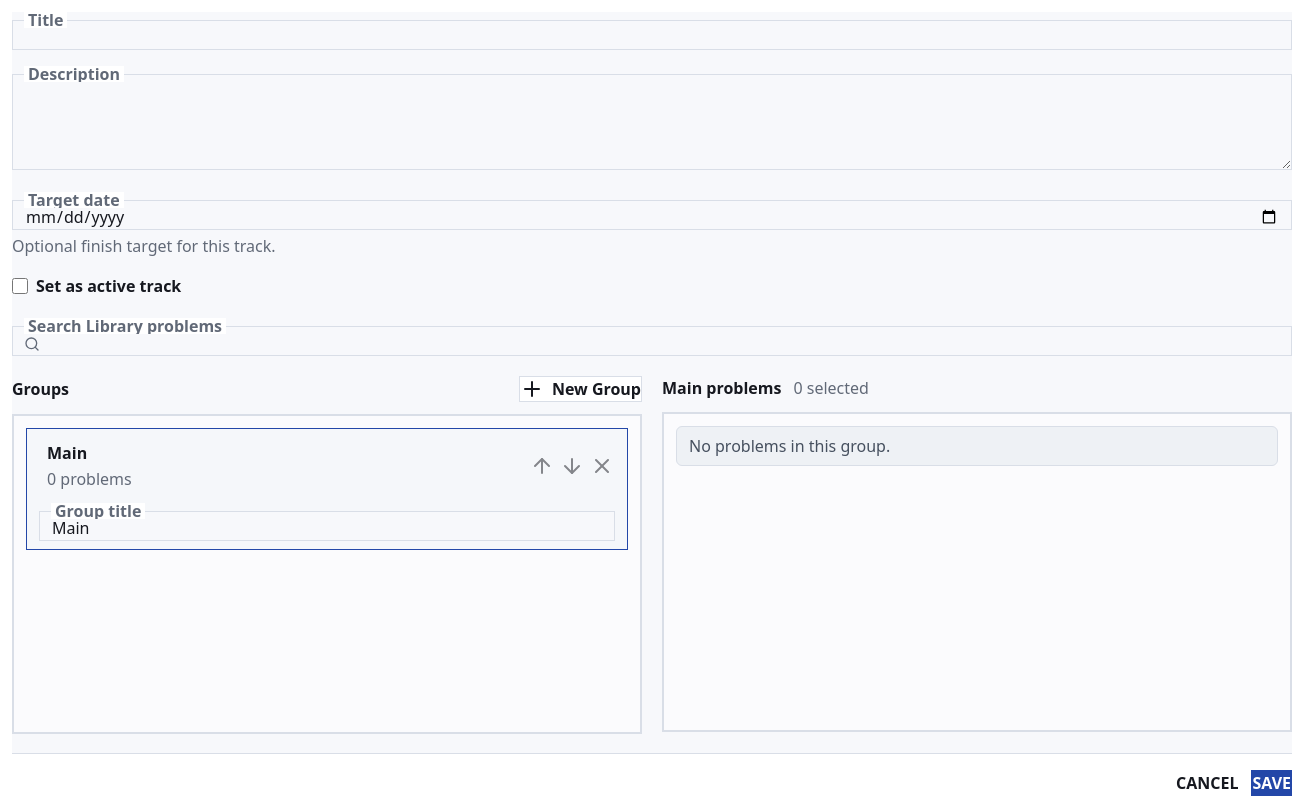
Test case: TrackForm › requires a title and starts create mode with a Main group
Check: the field labelled "Title" is empty, box [12, 20, 1292, 50]
Check: the field labelled "Group title" holds "Main", box [39, 511, 615, 541]
Click the button "SAVE" at (1272, 783), box [1251, 770, 1292, 796]
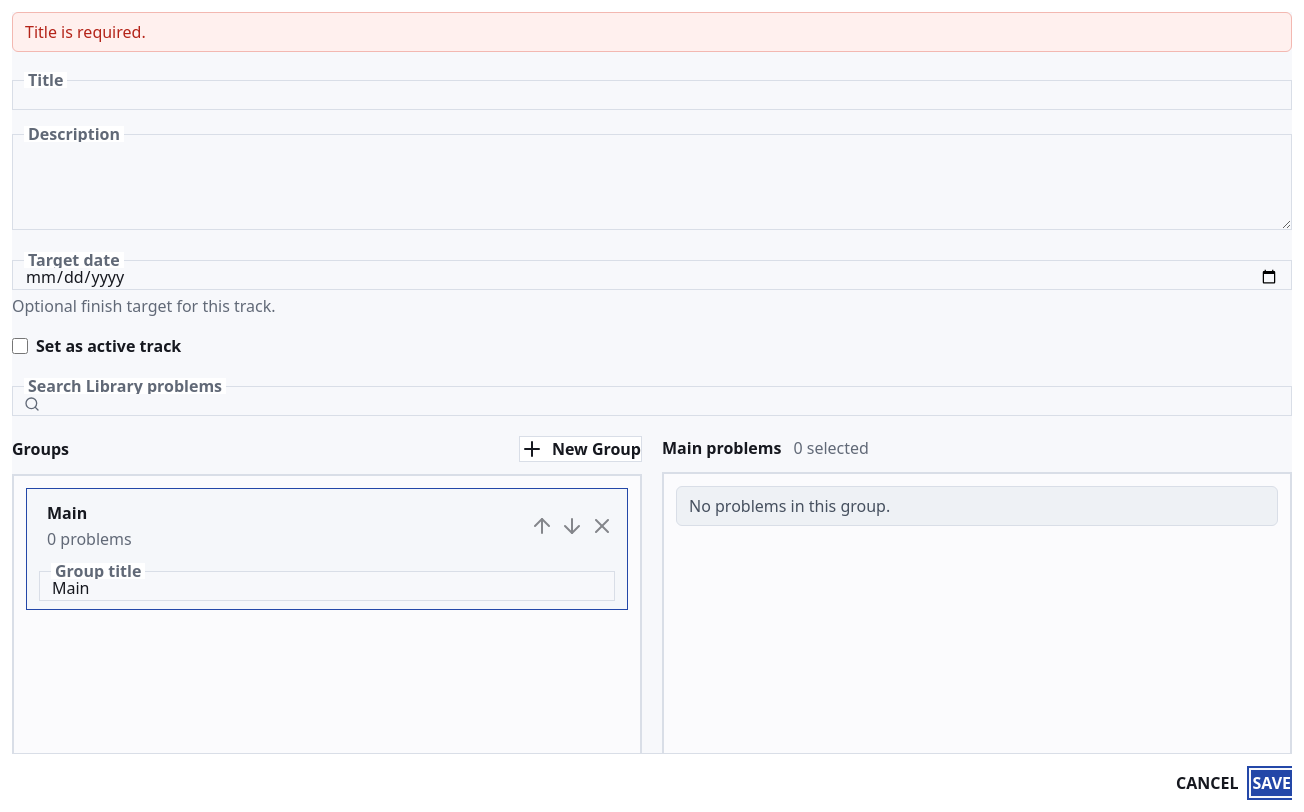
Check: the message "Title is required." is shown, box [12, 12, 1292, 52]
